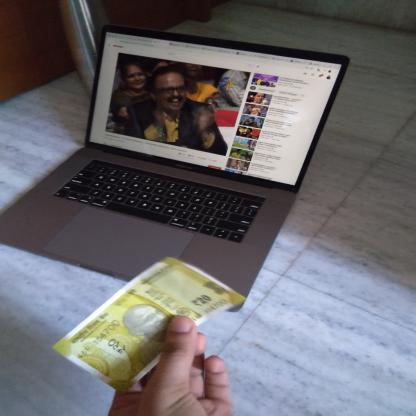New20Front: (71, 264, 221, 386)
